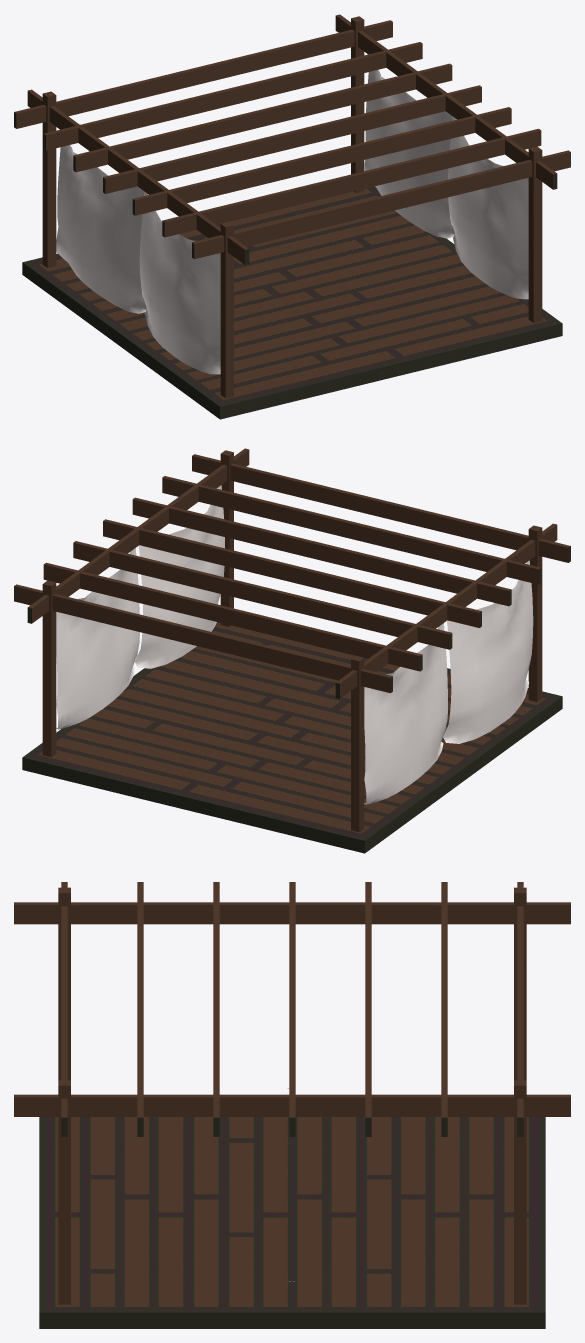
File: 74133560-1acf-46c2-baa5-91e3f52d78b8.glb
3 views of the same model, one above another, from view 1: azimuth 30°, elevation 25°; view 2: azimuth 150°, elevation 25°; view 3: azimuth 270°, elevation 25° (orthographic). The views are drawn at different scales.
Visible parts, largest first — view 1: Cabana, Curtains_1; view 2: Cabana, Curtains_1; view 3: Cabana.
Boxes of the visible parts, x1,y1,x2,y2 form: Cabana: [14, 14, 570, 419]; Curtains_1: [56, 70, 528, 374]; Cabana: [14, 448, 570, 853]; Curtains_1: [56, 485, 533, 804]; Cabana: [14, 882, 570, 1328].
Size of the model in its own units: 1100 by 513 by 1100.
Materials: 1 (1 with a texture image).
